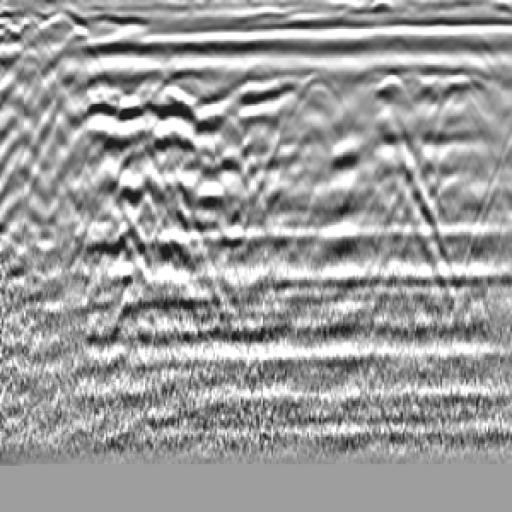metalic: (363, 58, 418, 147)
